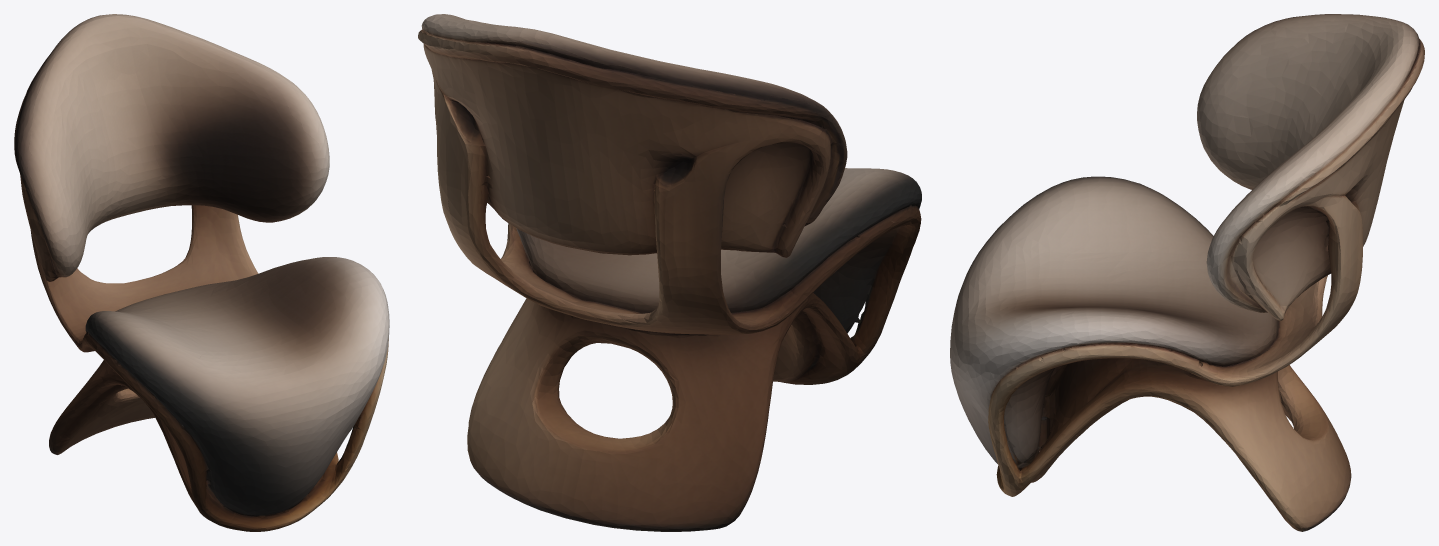
File: Modern_Chair_1.glb
3 views of the same model, side by side, from view 1: azimuth 30°, elevation 25°; view 2: azimuth 150°, elevation 25°; view 3: azimuth 270°, elevation 25° (orthographic). The views are drawn at different scales.
Visible parts, largest first — view 1: world; view 2: world; view 3: world.
Boxes of the visible parts, x1,y1,x2,y2 form: world: [14, 14, 389, 531]; world: [418, 14, 921, 531]; world: [950, 14, 1424, 531].
Bounding box in the file's own units: 0.8044 × 0.9989 × 0.9613.
1 material, 1 textured.
